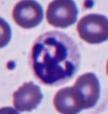N: (28, 31, 81, 86)
